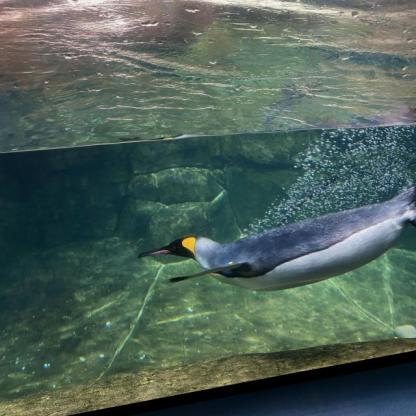penguin: (138, 187, 416, 293)
